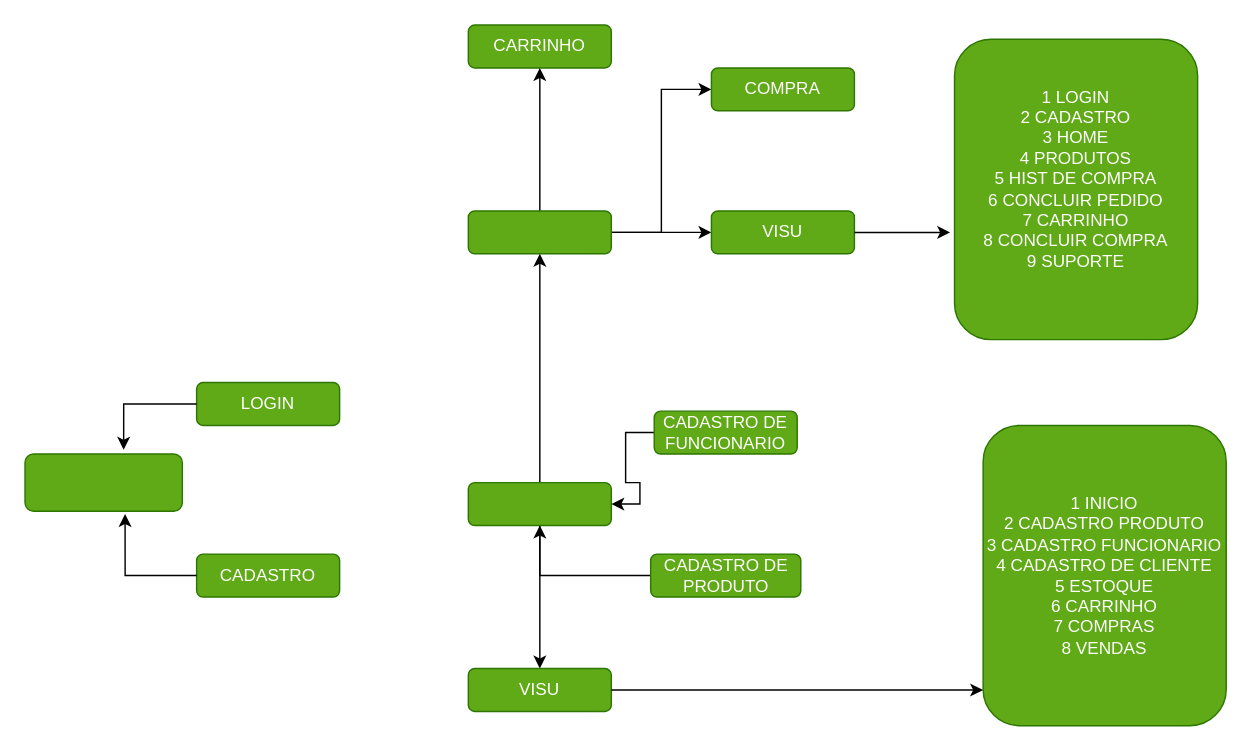
The diagram is 1251 pixels wide and 751 high, and some of its shapes have lost their labels. The centre of each missing label's shape, as x and y in pixels:
ADM: point (539, 503)
CLIENTE: point (539, 231)
HOME: point (103, 482)
